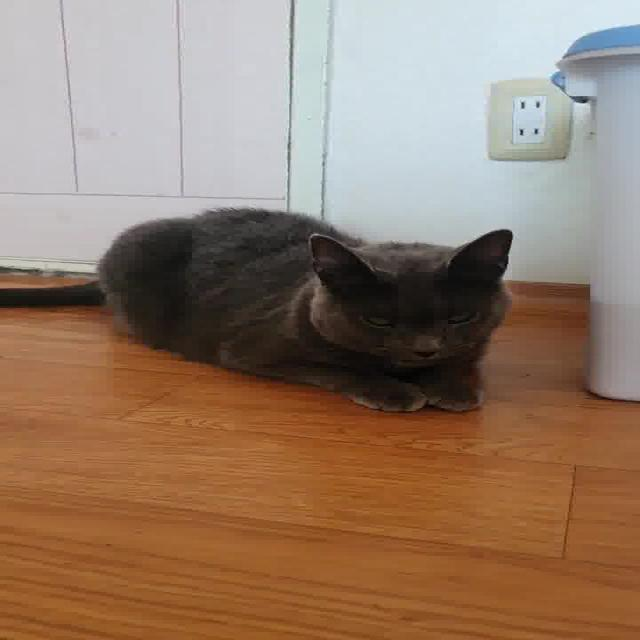cat: (0, 196, 536, 423)
